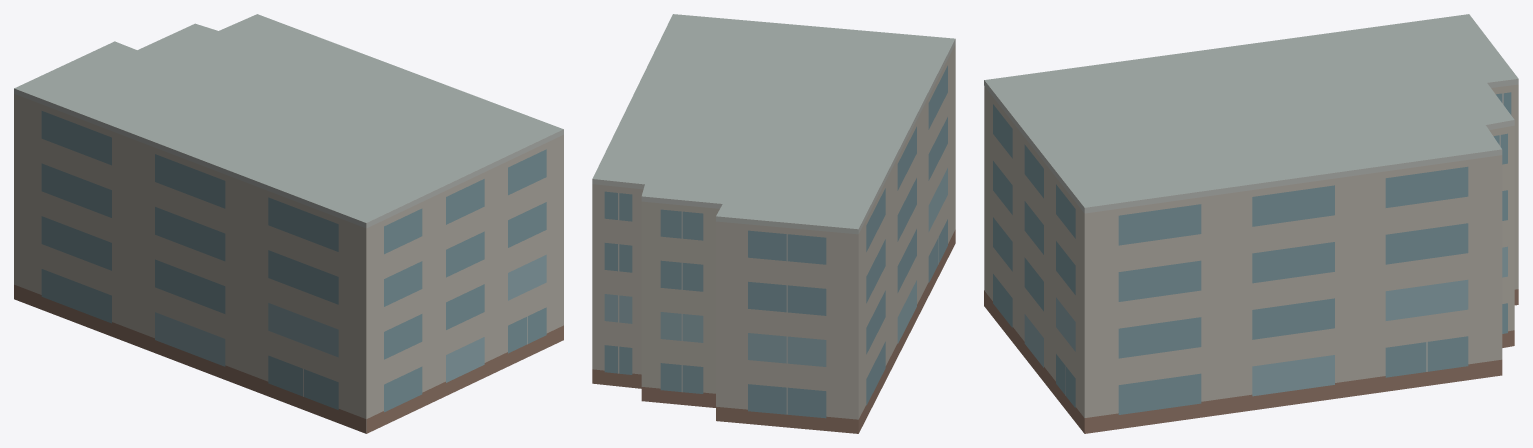
File: survey-upis-32687534.glb
3 views of the same model, side by side, from view 1: azimuth 30°, elevation 25°; view 2: azimuth 150°, elevation 25°; view 3: azimuth 270°, elevation 25° (orthographic). The views are drawn at different scales.
Parts seen in each view (by area): view 1: survey-upis-32687534.tmp; view 2: survey-upis-32687534.tmp; view 3: survey-upis-32687534.tmp.
Part boxes in pixels (<box>): survey-upis-32687534.tmp: <box>14,14,563,433</box>; survey-upis-32687534.tmp: <box>592,14,955,433</box>; survey-upis-32687534.tmp: <box>984,14,1518,433</box>.
Size of the model in its own units: 17.78 by 9.66 by 20.71.
